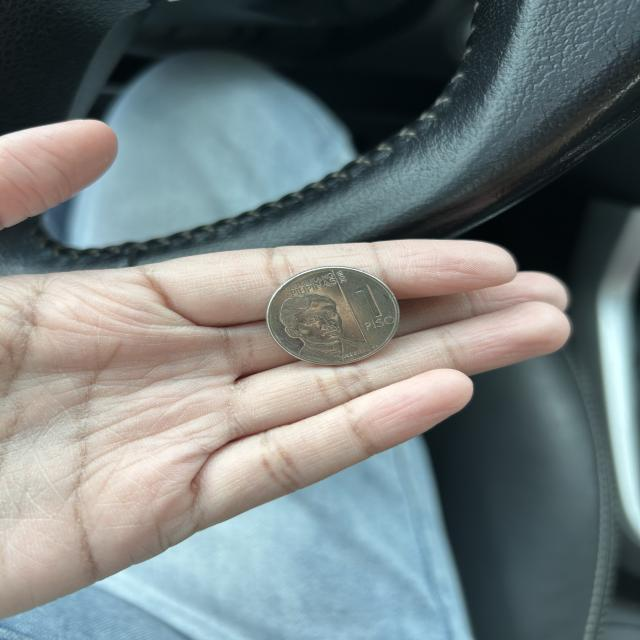1_New_Front: (347, 282, 403, 330)
